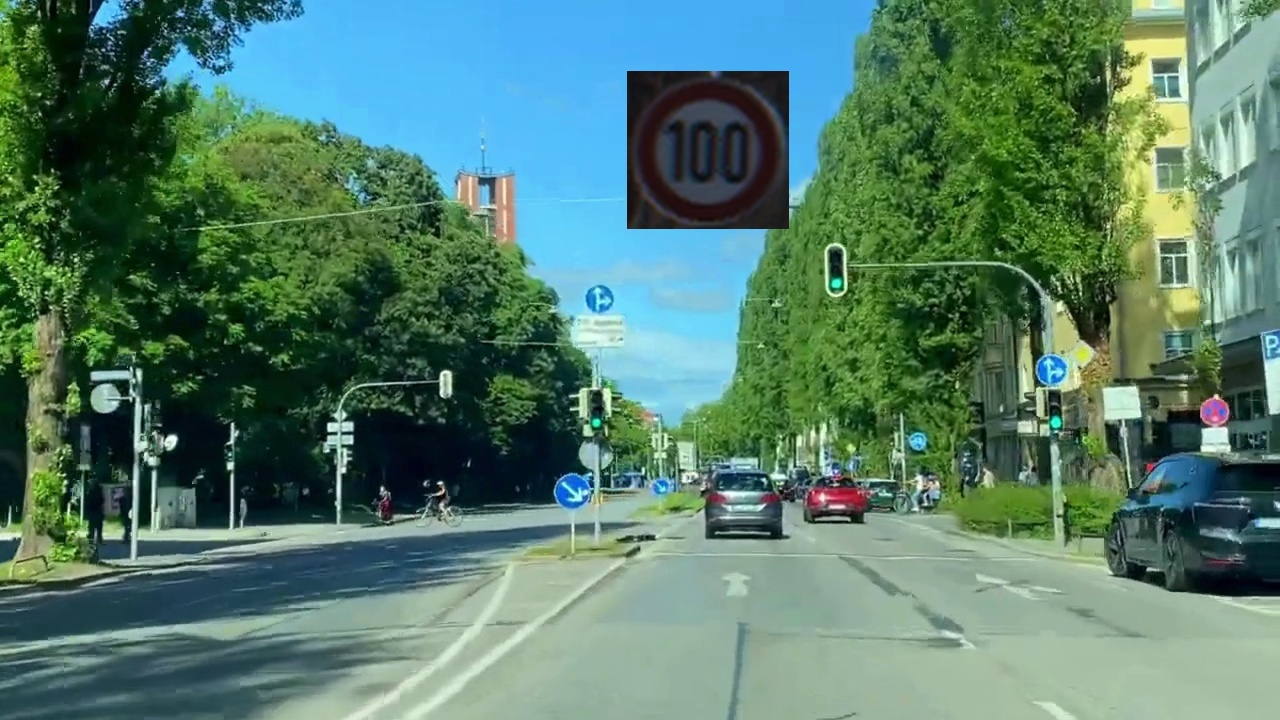Speed 100: (627, 71, 789, 229)
